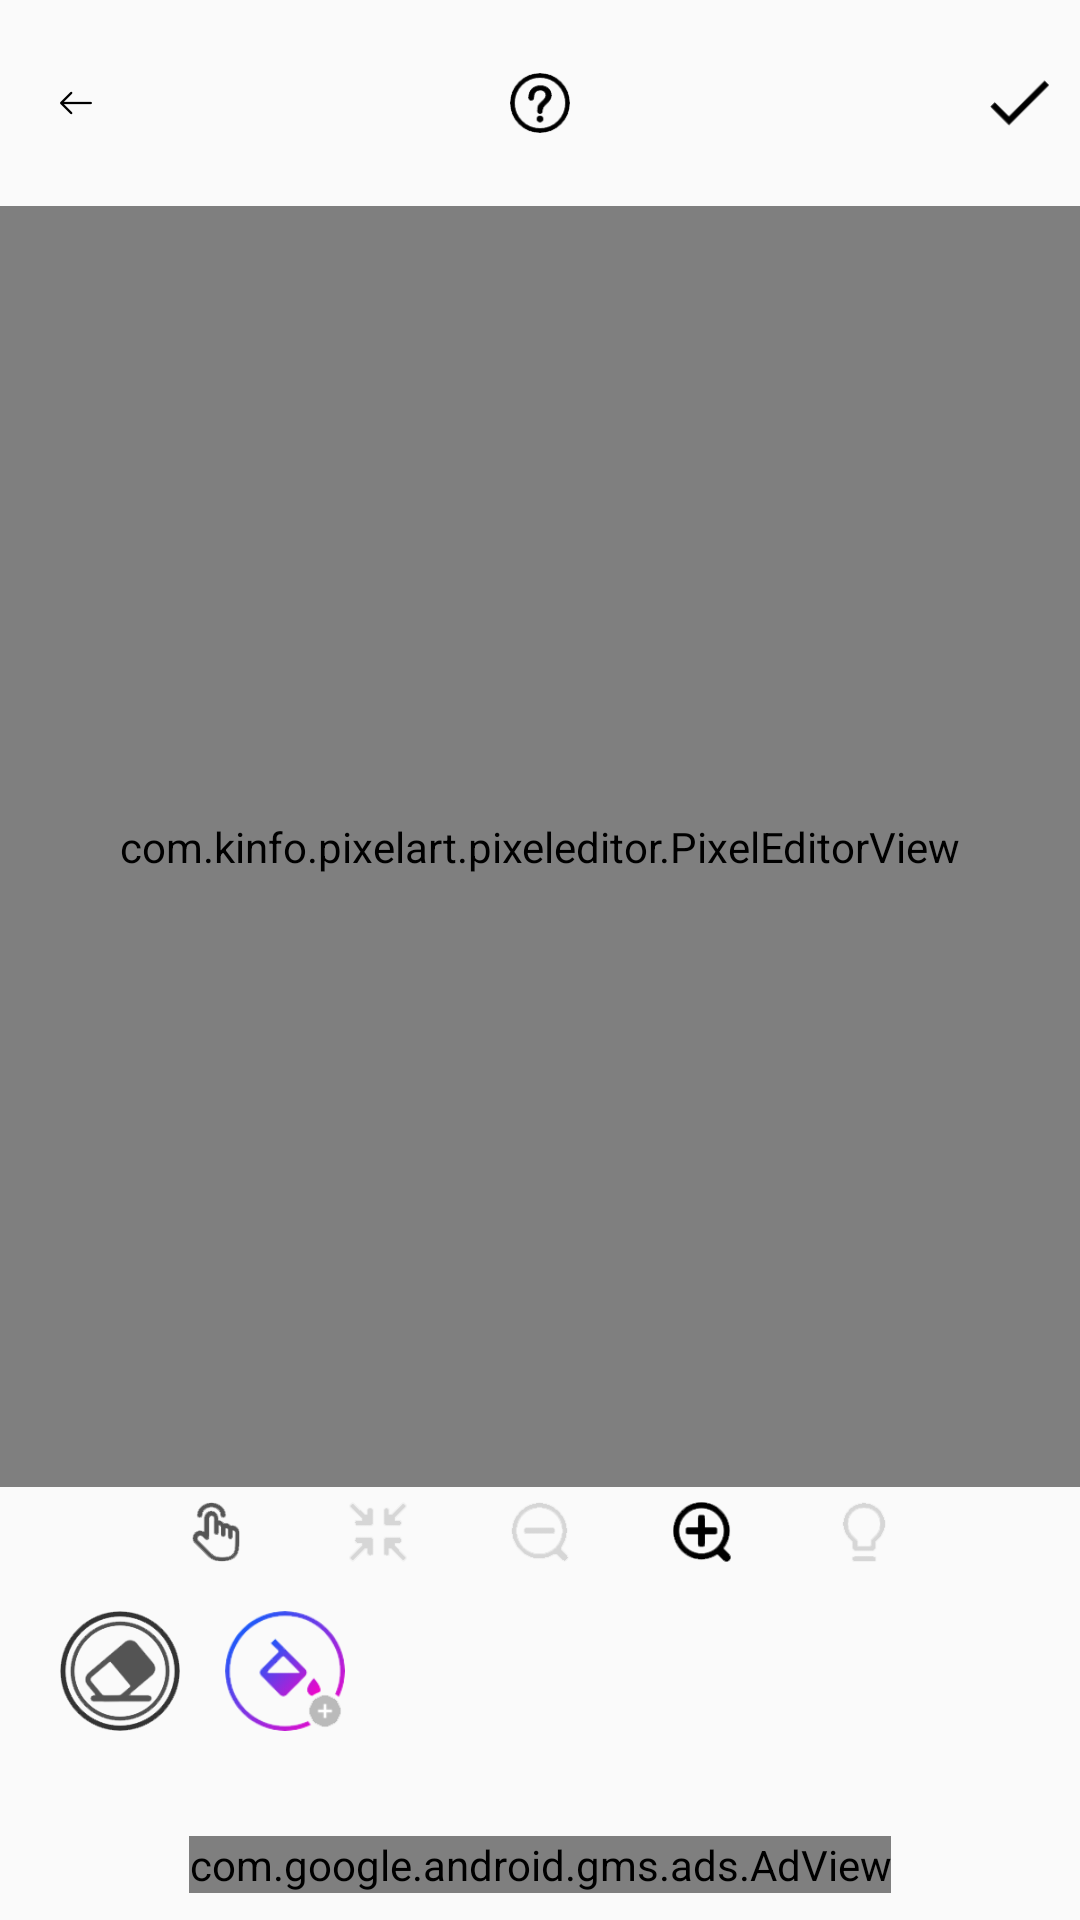

Where to tap for icons on this 1080×1920 app screen, as point (x, y):
bulb: point (864, 1532)
compress: point (378, 1532)
eraser: point (120, 1671)
hand: point (216, 1532)
leftarrow: point (76, 103)
minus: point (540, 1532)
paint: point (285, 1671)
plus: point (702, 1532)
question mark: point (540, 103)
tick: point (1019, 103)
